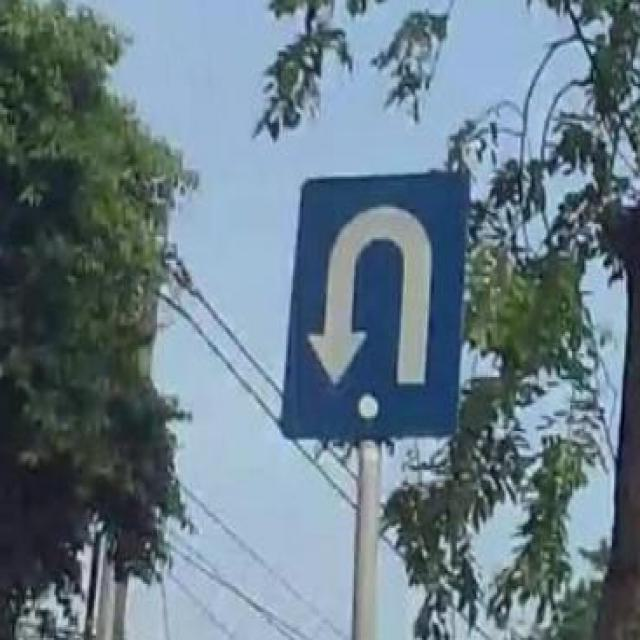U-turn: (296, 175, 454, 436)
